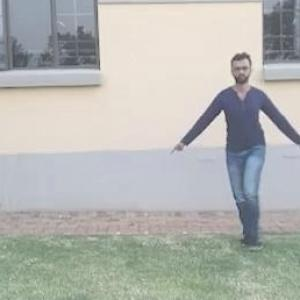land: (189, 60, 299, 230)
